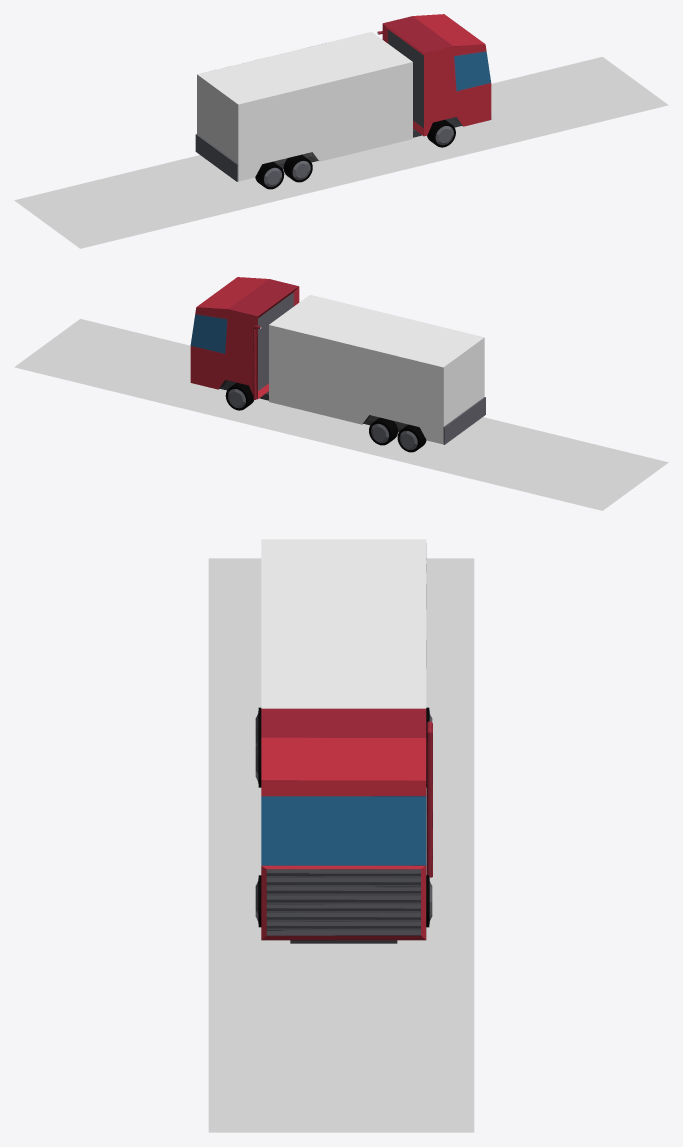
File: kamion.glb
3 renders of one model, top to bottom at view 1: azimuth 30°, elevation 25°; view 2: azimuth 150°, elevation 25°; view 3: azimuth 270°, elevation 25°, orthographic. The views are drawn at different scales.
Visible parts, largest first — view 1: Plane, kamion_naklad, kamion, kamion_kolesa_zadne1, kamion_kolesa_predne, kamion_kolesa_zadne2; view 2: Plane, kamion_naklad, kamion, kamion_kolesa_zadne1, kamion_kolesa_zadne2, kamion_kolesa_predne; view 3: Plane, kamion, kamion_naklad.
Boxes of the visible parts, <box> form: Plane: <box>14,57,668,248</box>; kamion_naklad: <box>197,32,412,181</box>; kamion: <box>195,14,491,181</box>; kamion_kolesa_zadne1: <box>283,154,312,182</box>; kamion_kolesa_predne: <box>427,119,455,147</box>; kamion_kolesa_zadne2: <box>255,161,284,189</box>; Plane: <box>14,319,668,510</box>; kamion_naklad: <box>269,294,484,444</box>; kamion: <box>190,277,485,444</box>; kamion_kolesa_zadne1: <box>369,417,397,445</box>; kamion_kolesa_zadne2: <box>397,424,426,452</box>; kamion_kolesa_predne: <box>225,382,253,410</box>; Plane: <box>208,558,474,1132</box>; kamion: <box>261,708,432,943</box>; kamion_naklad: <box>261,539,426,708</box>.
Bounding box in the file's own units: 15.98 × 2.56 × 3.12.
Materials: 2 (2 with a texture image).
